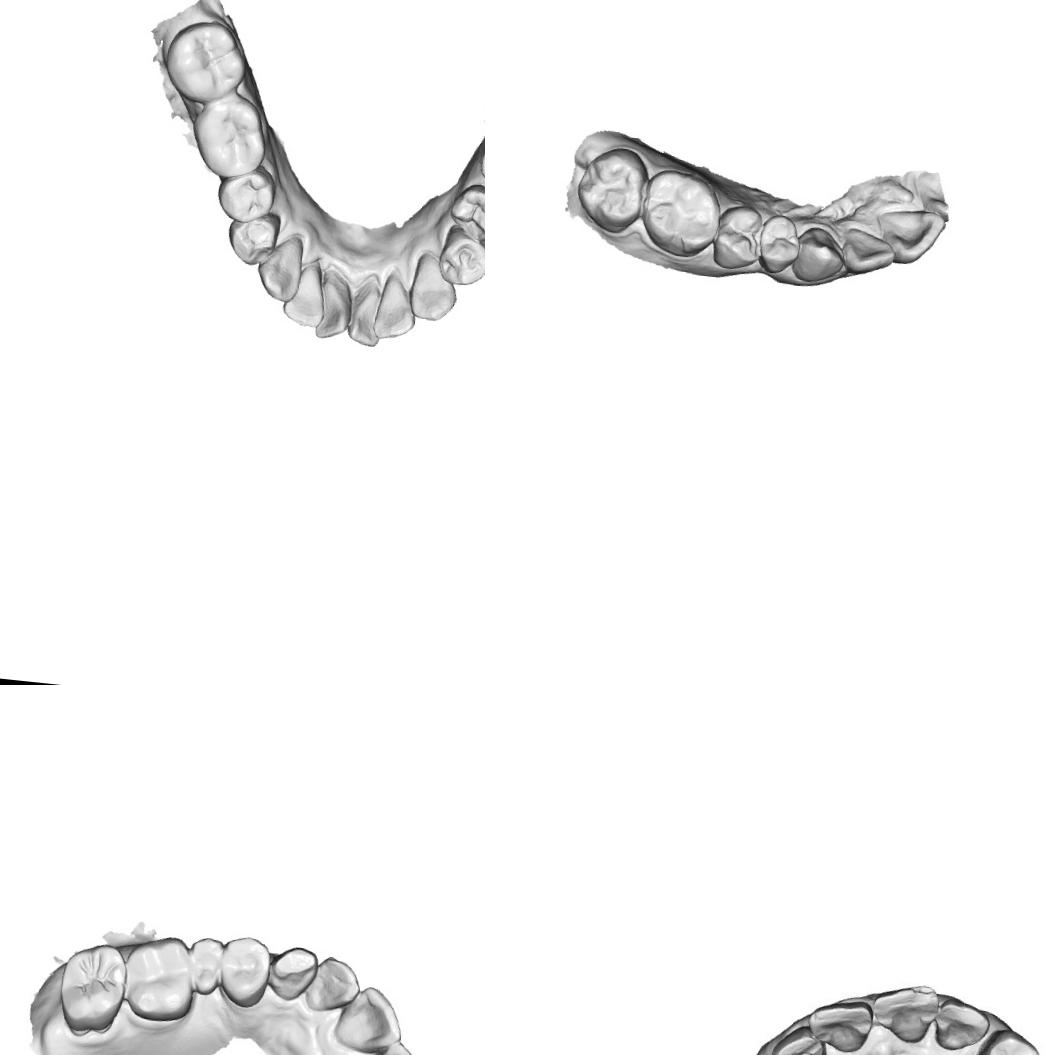canine: (406, 250, 460, 324), (254, 234, 306, 305), (791, 224, 848, 286), (266, 942, 320, 1004), (969, 1024, 1045, 1055)
incisor: (332, 981, 407, 1055), (872, 204, 949, 268), (868, 979, 940, 1046), (802, 994, 876, 1055), (303, 952, 364, 1016), (931, 995, 993, 1055), (278, 258, 328, 331), (372, 274, 420, 342), (838, 225, 899, 278), (346, 277, 386, 349), (316, 270, 352, 342), (769, 1021, 831, 1055), (360, 1037, 433, 1055)
molar: (638, 164, 727, 262), (160, 17, 252, 109), (118, 931, 199, 1026), (54, 939, 130, 1038), (572, 143, 652, 236), (188, 93, 270, 182)
premolar: (215, 932, 274, 1011), (211, 164, 277, 227), (710, 202, 765, 273), (225, 209, 285, 271), (756, 212, 804, 277), (445, 180, 485, 249), (438, 231, 485, 289), (184, 934, 225, 998)
